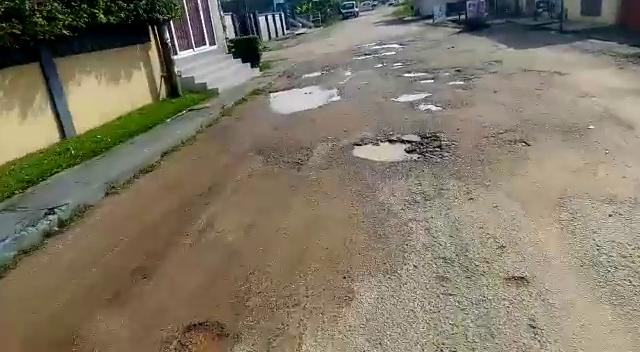pothole: (347, 134, 446, 165), (172, 319, 240, 351), (268, 86, 342, 113), (387, 90, 431, 103), (376, 60, 411, 69), (412, 104, 444, 112), (401, 71, 429, 76), (447, 80, 466, 87), (417, 77, 437, 83)
